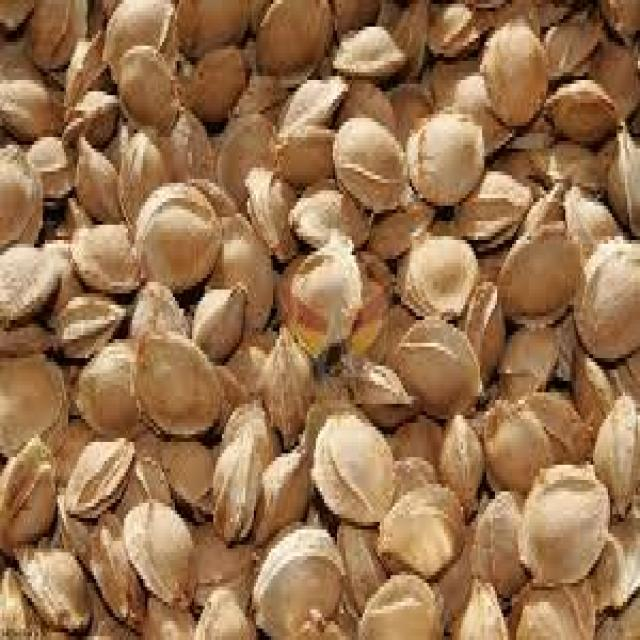cekirdek: (312, 408, 397, 526), (137, 188, 219, 285), (124, 501, 199, 604), (334, 120, 406, 210)
